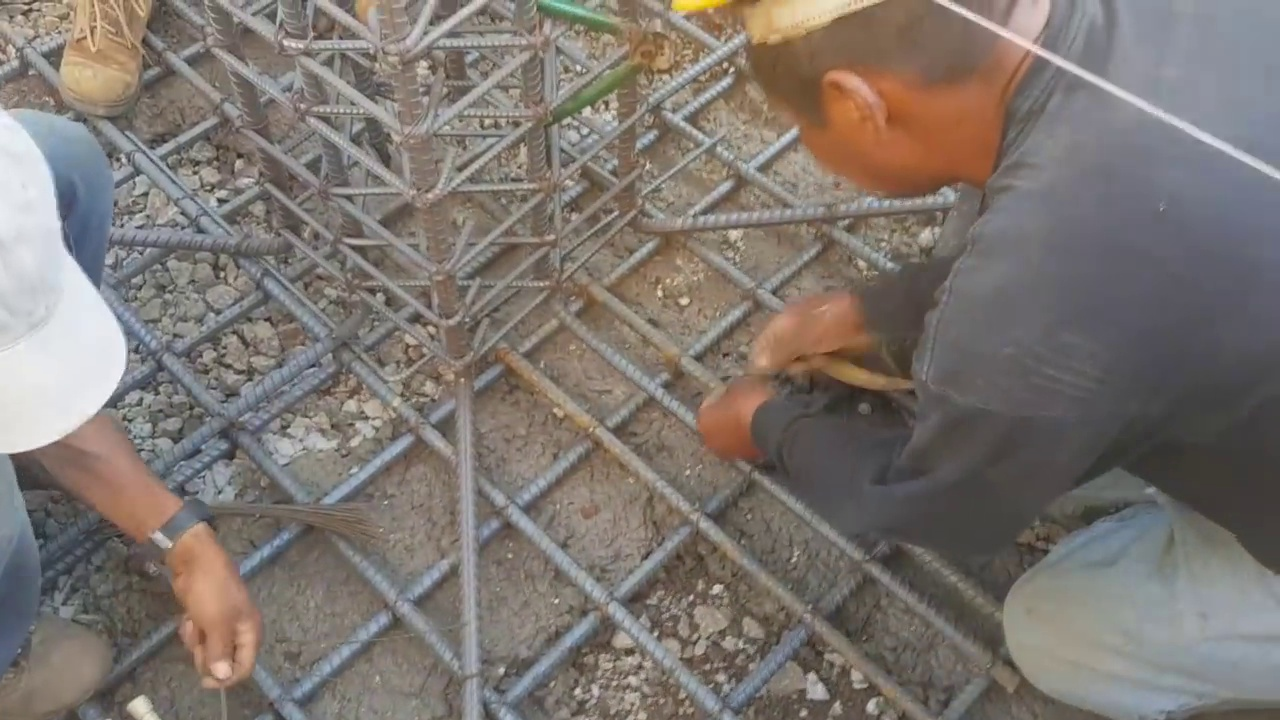helmet-off: (736, 0, 1067, 203), (0, 113, 132, 465)
person: (694, 0, 1280, 716), (0, 116, 261, 719)
